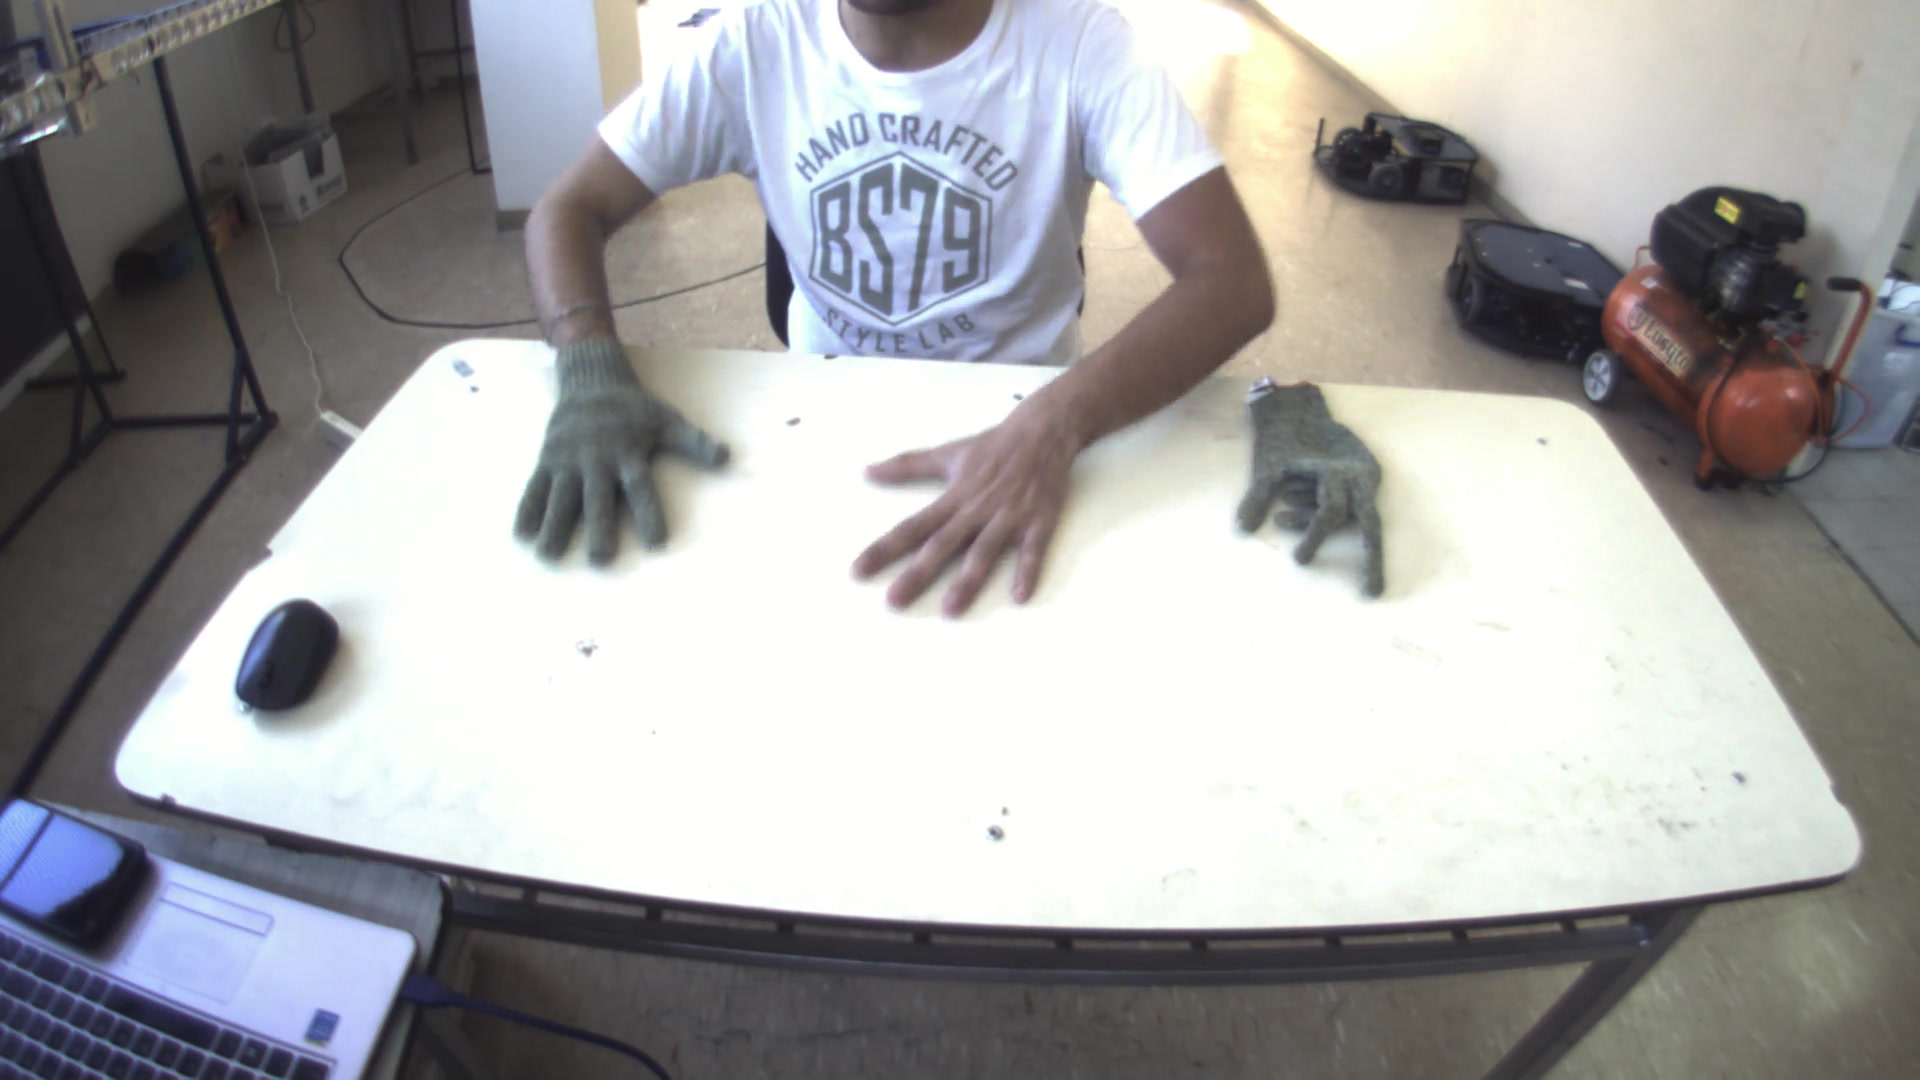hand: (841, 390, 1097, 626), (501, 322, 736, 574)
